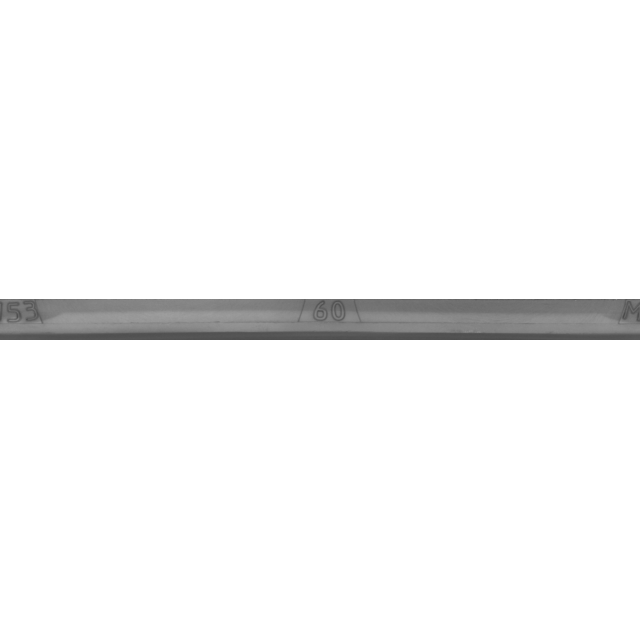mohao: (531, 270, 640, 370)
xuehao: (227, 270, 427, 370)
